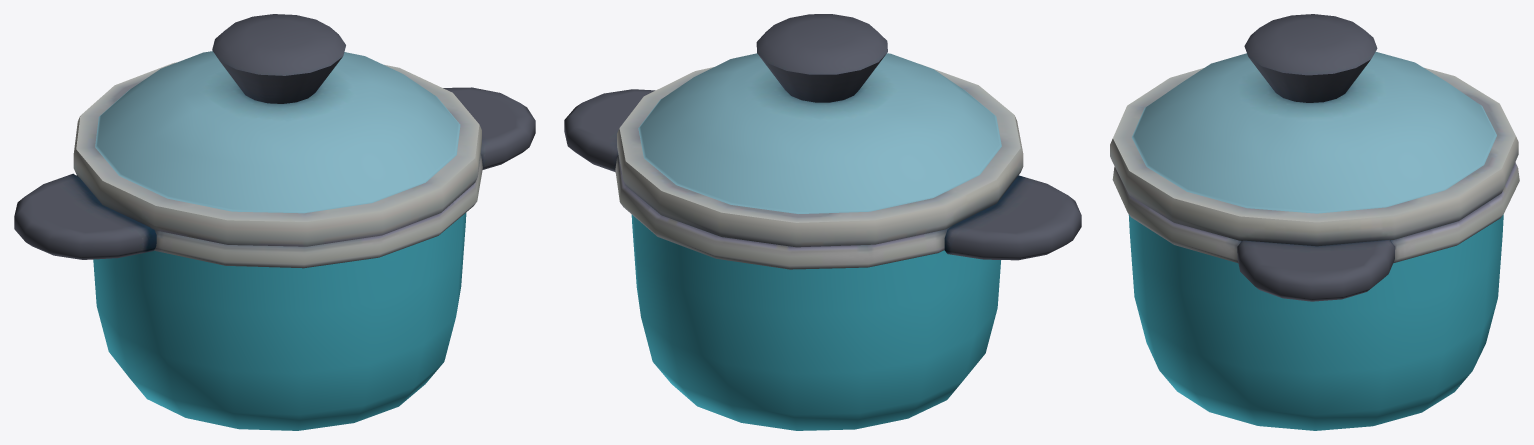
Rendered from 0-pot_blue.fbx.
The picture shows the model from 3 angles, left to right: view 1: azimuth 30°, elevation 25°; view 2: azimuth 150°, elevation 25°; view 3: azimuth 270°, elevation 25°; orthographic projection.
Visible parts, largest first — view 1: 0-pot_blue; view 2: 0-pot_blue; view 3: 0-pot_blue.
Boxes of the visible parts, box(x1,y1,x2,y2) form: 0-pot_blue: box(14, 14, 535, 430); 0-pot_blue: box(564, 14, 1081, 430); 0-pot_blue: box(1110, 14, 1519, 430).
Size of the model in its own units: 96.89 by 62.95 by 69.24.
